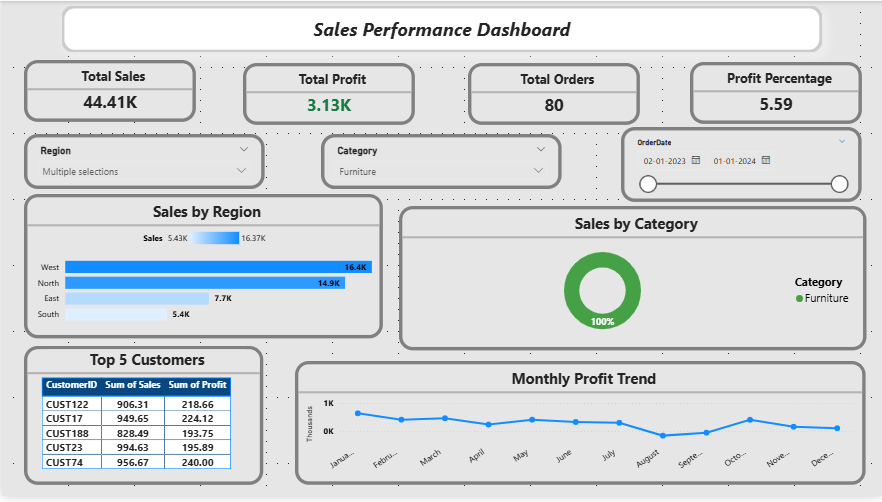

What the dashboard file says about the page in this screenshot:
{"tool":"powerbi","page":{"name":"Page 1","canvas":[1280,720],"ordinal":0},"visuals":[{"type":"textbox","box":[86,6,1108,70],"z":0},{"type":"card","title":"Total Sales","fields":{"Values":["Sheet.Total_Sales"]},"box":[32,86,250,90],"z":1000},{"type":"card","title":"Total Profit","fields":{"Values":["Sheet.Total_Profit"]},"box":[350,90.6,250,89.8],"z":2000},{"type":"card","title":"Total Orders","fields":{"Values":["Sheet.Total_Orders"]},"box":[678,90,250,90],"z":3000},{"type":"card","title":"Profit Percentage","fields":{"Values":["Sum(Sheet.Profit_Percentage)"]},"box":[1000,88.3,250,90],"z":4000},{"type":"barChart","title":"Sales by Region","fields":{"Y":["Sum(Sheet.Sales)"],"Category":["Sheet.Region"]},"box":[32,280,522,210],"z":5000},{"type":"donutChart","title":"Sales by Category","fields":{"Y":["Sum(Sheet.Sales)"],"Category":["Sheet.Category"]},"box":[577.1,298.6,680,210],"z":6000},{"type":"tableEx","title":"Top 5 Customers","fields":{"Values":["Sheet.CustomerID","Sum(Sheet.Sales)","Sum(Sheet.Profit)"]},"box":[32,502,348,202],"z":7000},{"type":"lineChart","title":"Monthly Profit Trend","fields":{"Y":["Sum(Sheet.Profit)"],"Category":["Sheet.OrderDate.Variation.Date Hierarchy.Month"]},"box":[426,524,830,180],"z":8000},{"type":"slicer","fields":{"Values":["Sheet.Region"]},"box":[32,194,350,80],"z":9000},{"type":"slicer","fields":{"Values":["Sheet.Category"]},"box":[464,194,350,80],"z":10000},{"type":"slicer","fields":{"Values":["Sheet.OrderDate"]},"box":[900,182.9,350,108.6],"z":11000}]}

Visuals, with their boxes in screenshot pixels (x1, y1, x2, y2), scaled from the page's 1280x720 canvas onto the 882x502 screenshot:
textbox: x1=59 y1=4 x2=823 y2=53
"Total Sales" card: x1=22 y1=60 x2=194 y2=123
"Total Profit" card: x1=241 y1=63 x2=413 y2=126
"Total Orders" card: x1=467 y1=63 x2=639 y2=126
"Profit Percentage" card: x1=689 y1=62 x2=861 y2=124
"Sales by Region" barChart: x1=22 y1=195 x2=382 y2=342
"Sales by Category" donutChart: x1=398 y1=208 x2=866 y2=355
"Top 5 Customers" tableEx: x1=22 y1=350 x2=262 y2=491
"Monthly Profit Trend" lineChart: x1=294 y1=365 x2=865 y2=491
slicer - Sheet.Region: x1=22 y1=135 x2=263 y2=191
slicer - Sheet.Category: x1=320 y1=135 x2=561 y2=191
slicer - Sheet.OrderDate: x1=620 y1=128 x2=861 y2=203
